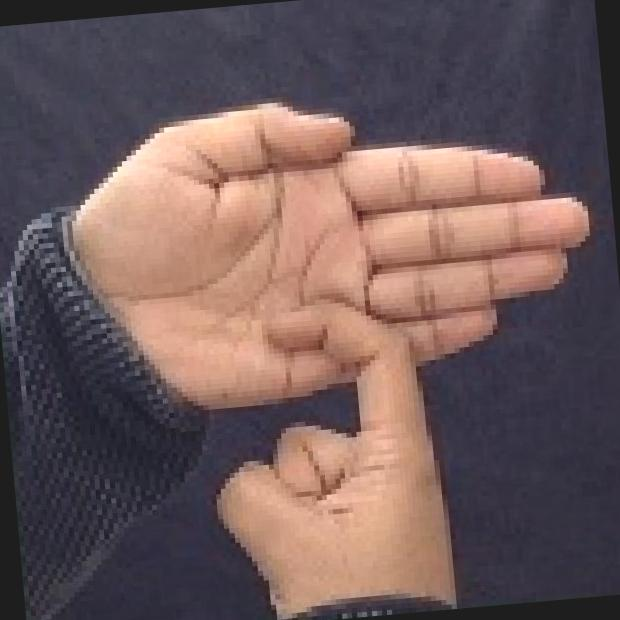Q: (21, 62, 620, 605)
